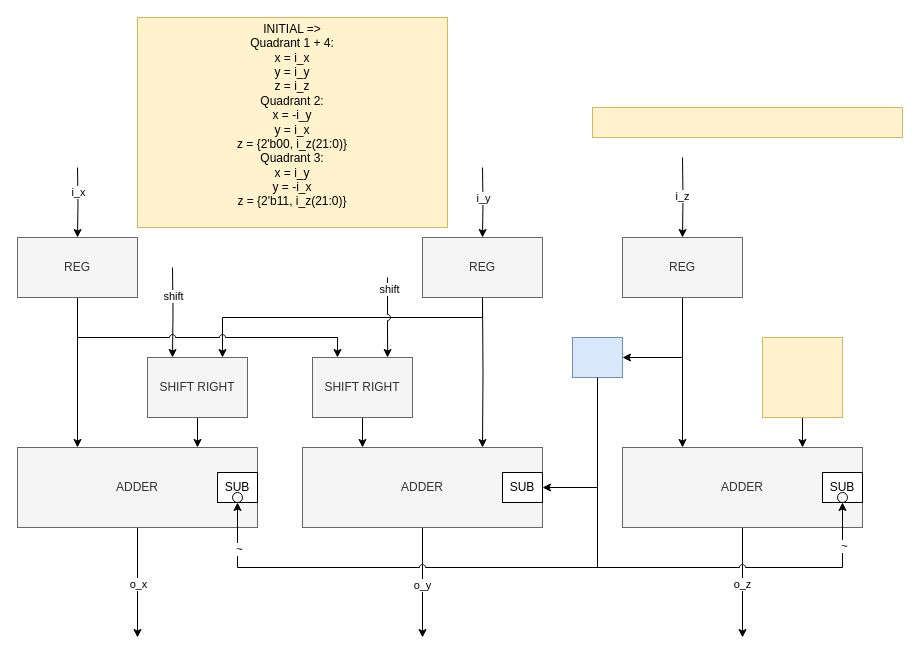
Image size: 920x663. Some labels were removed from this diagram. The shapes that lost their labels are listed below. From the top down, each one's box as (x1, y1, x2, y2) in pixels, then its label:
(592, 106, 902, 138): ATAN_TABLE [i] = (atan(2^-i) / (2 * pi)) * 2^24
(572, 336, 622, 378): SIGN (23]
(762, 336, 842, 418): ATAN [i]
